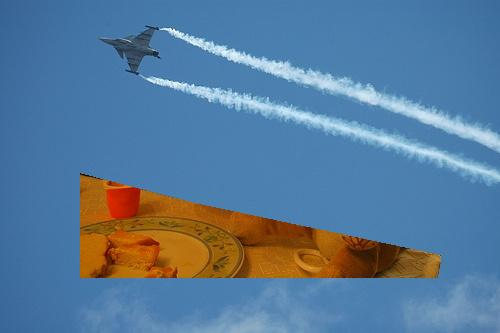tampered: (81, 174, 441, 278)
